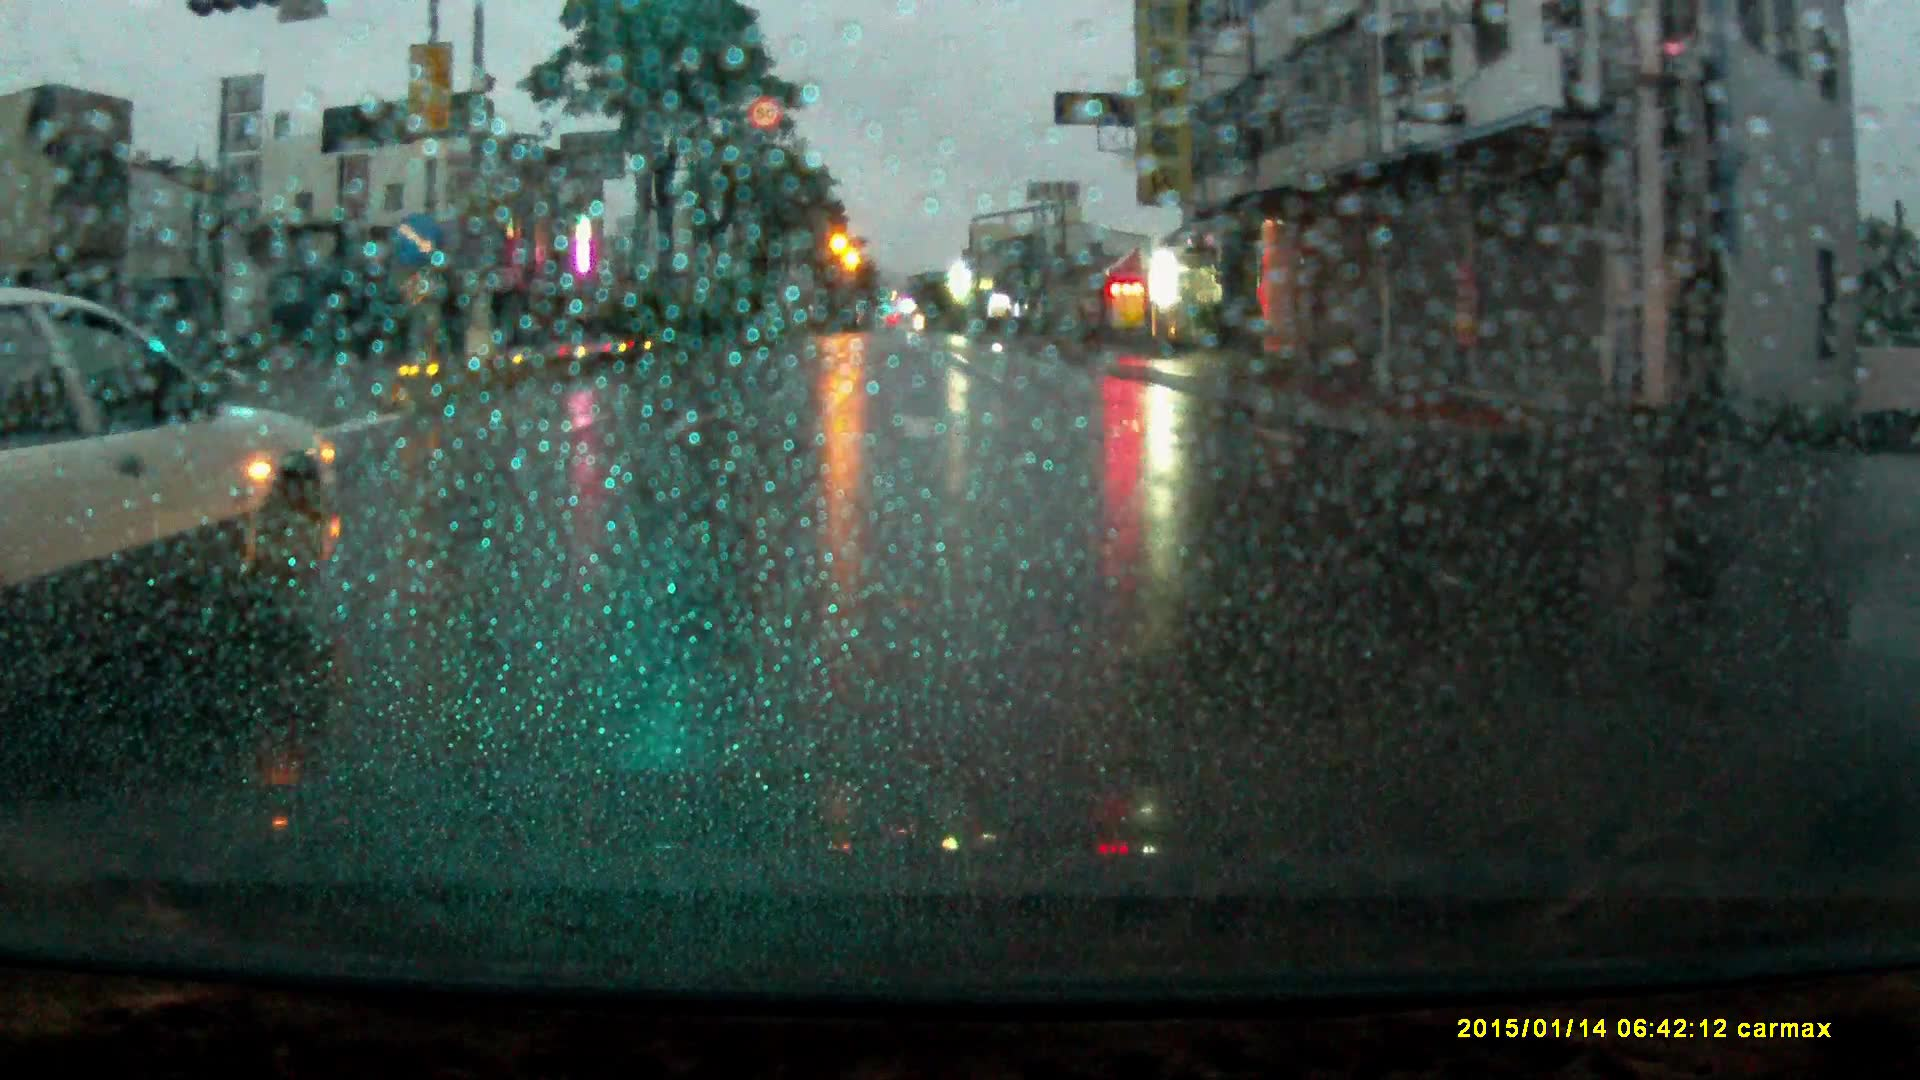vehicle: (1, 285, 345, 665)
